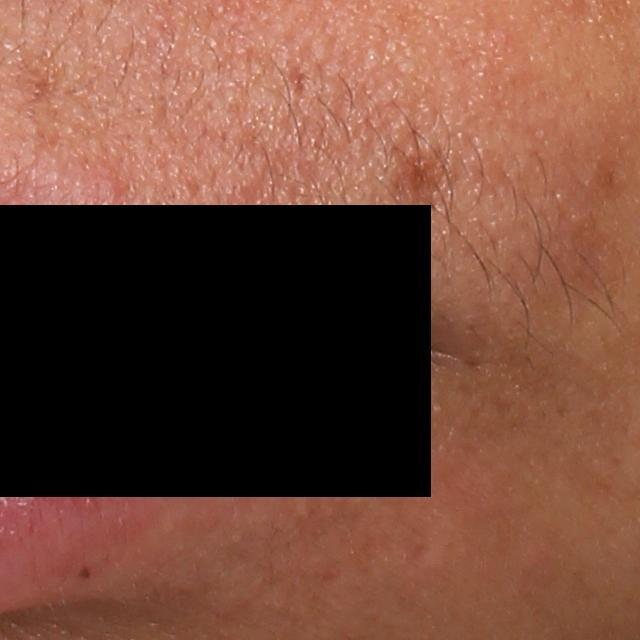nevus: (74, 561, 93, 582)
